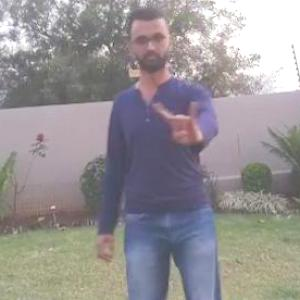takeoff-hand: (151, 90, 214, 151)
